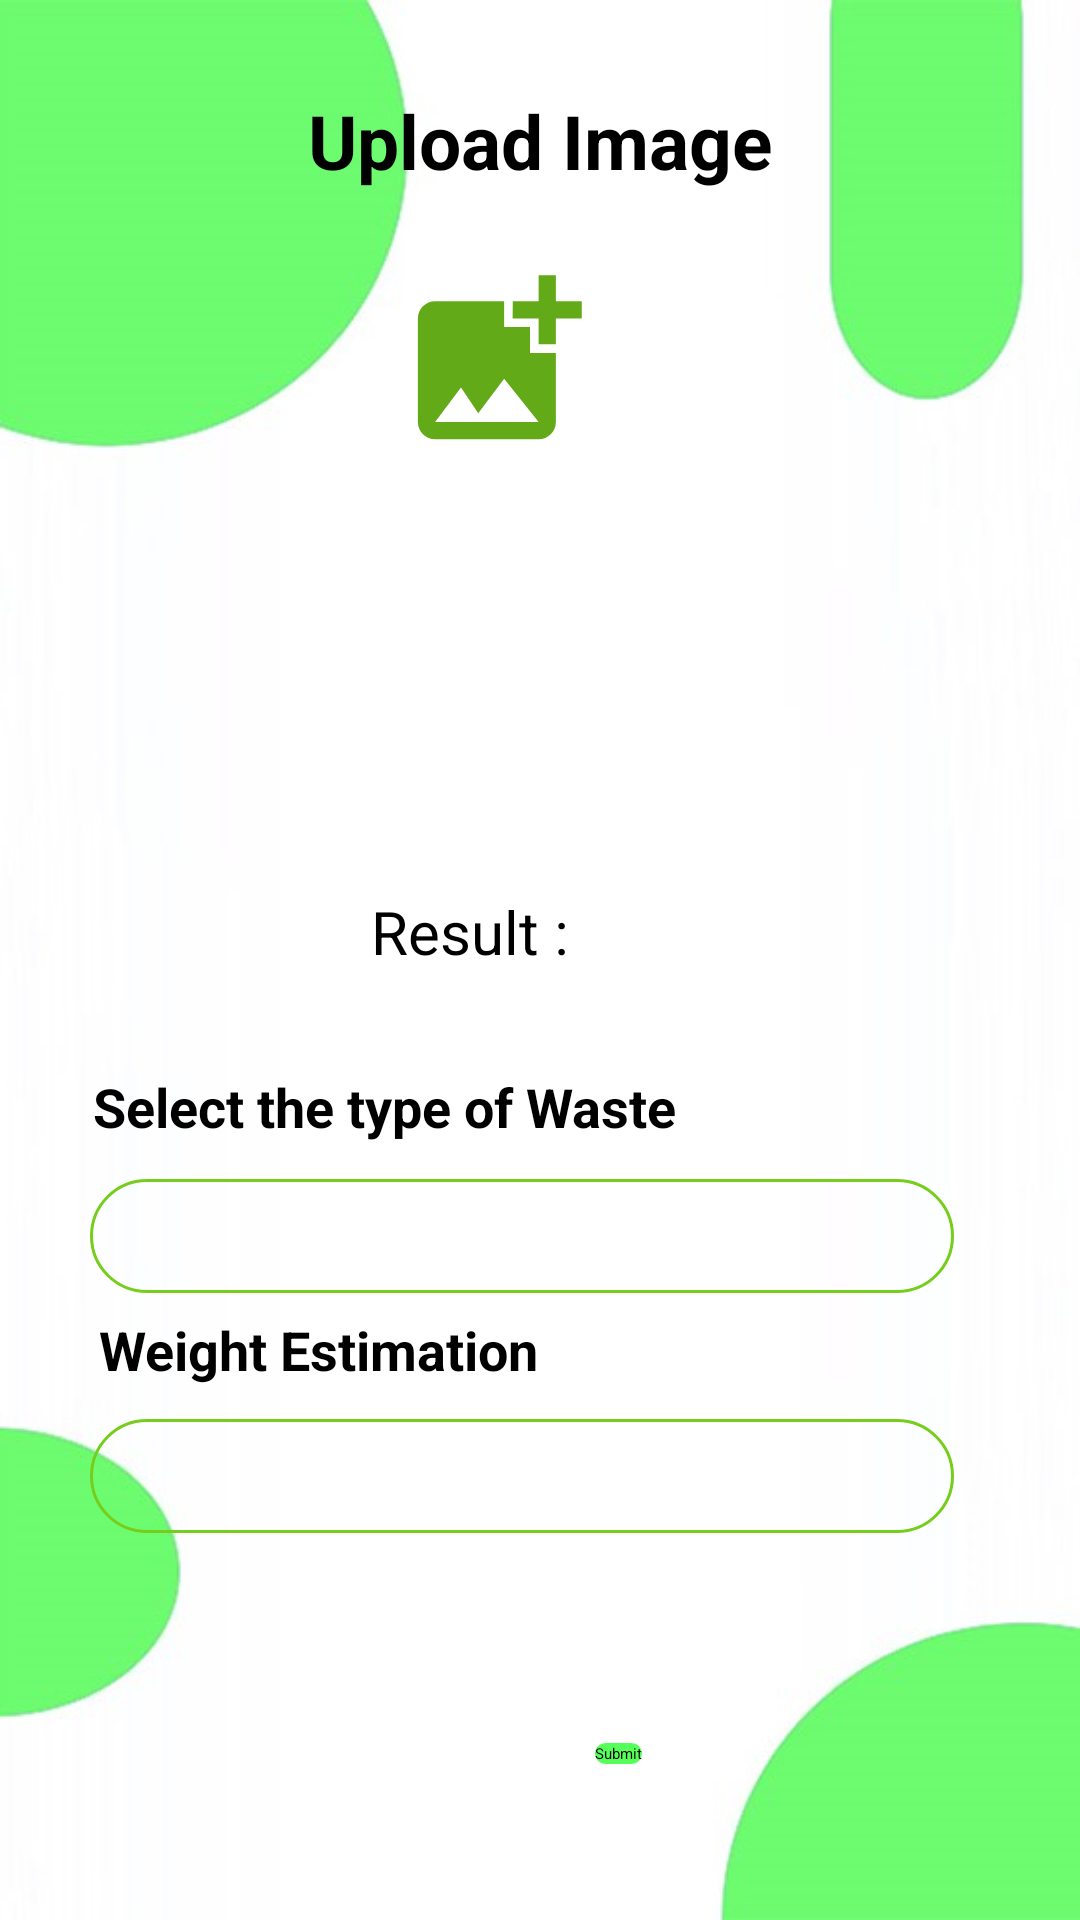

Screen size 1080 × 1920. Icon name, then its center in pixels as [x,y]:
add photo: [499,357]
